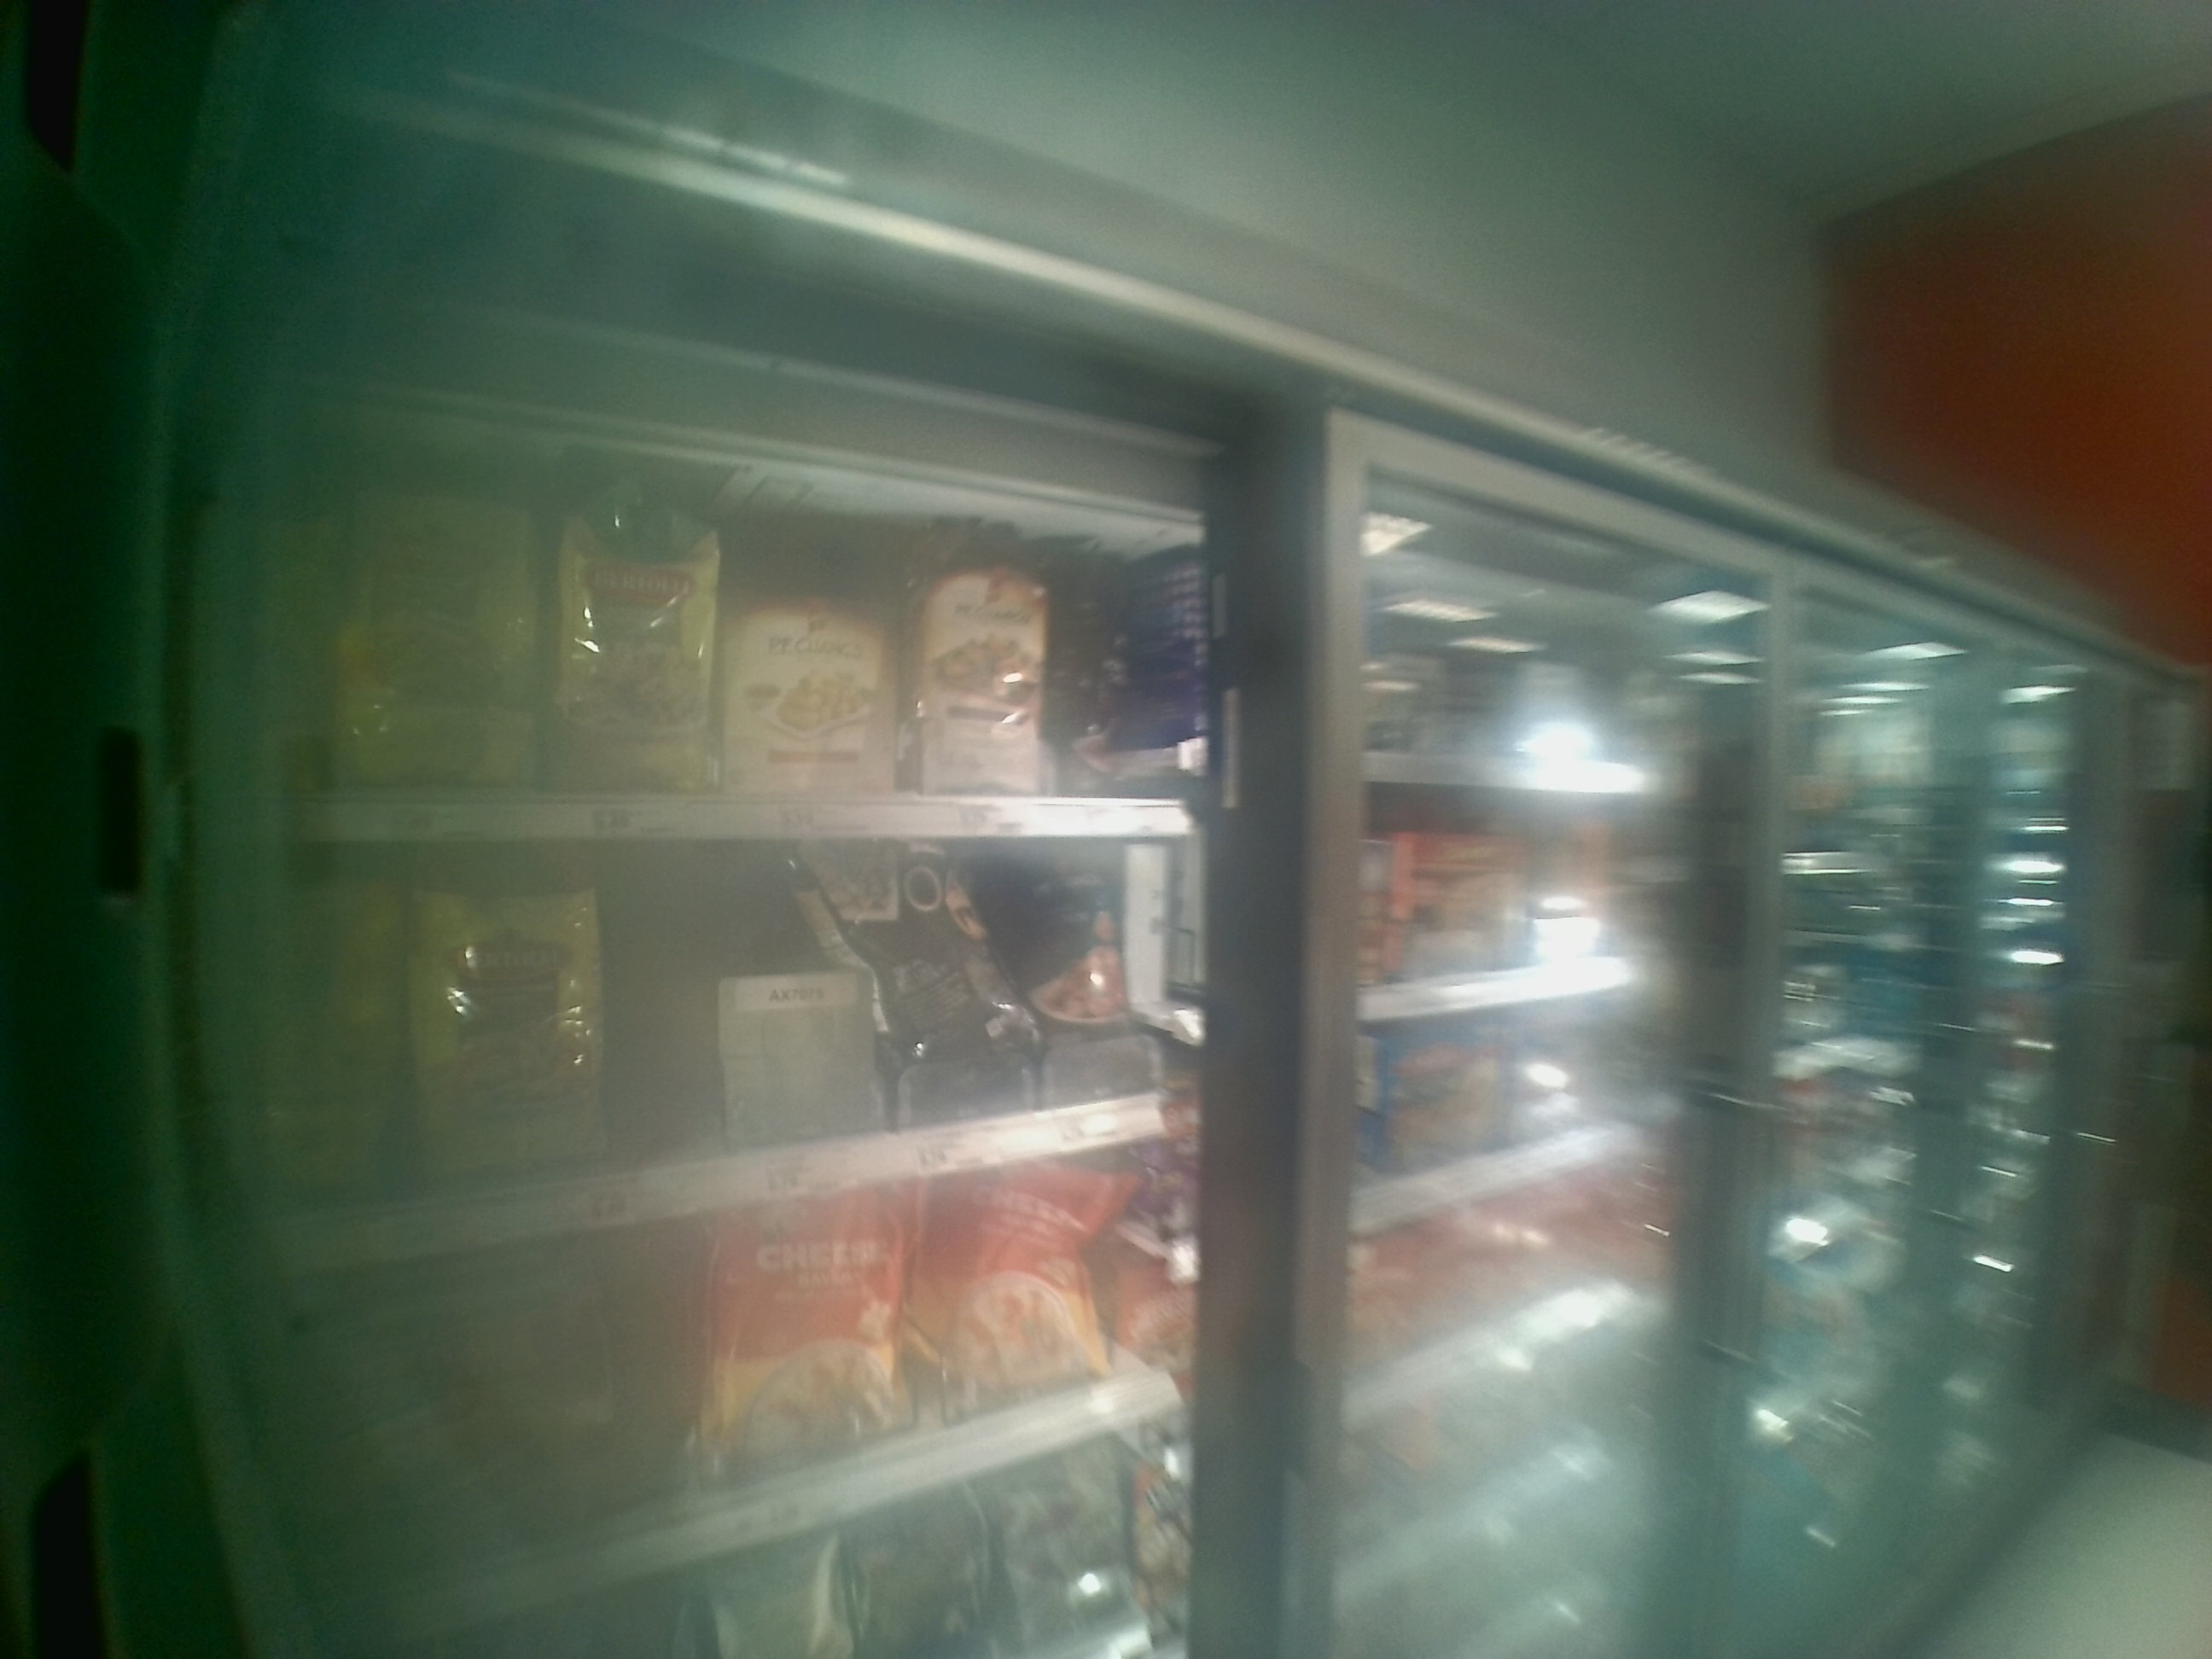shelf: (286, 833, 1214, 1270), (284, 448, 1204, 838)
